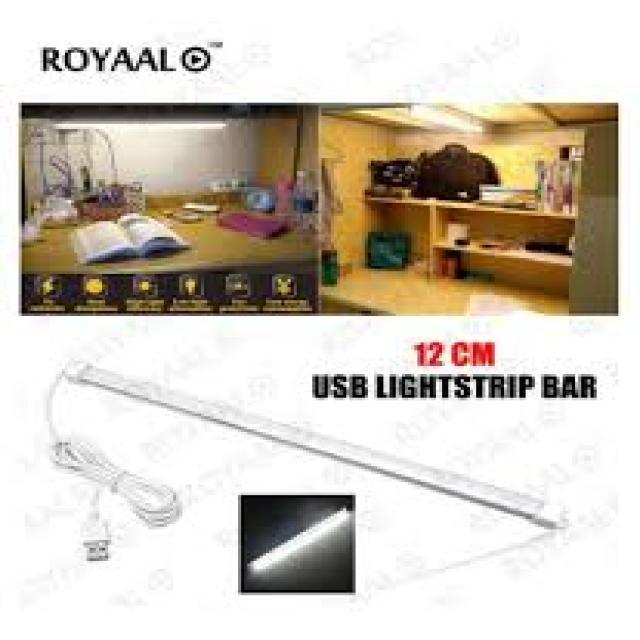tubelight_off: (56, 355, 576, 541)
